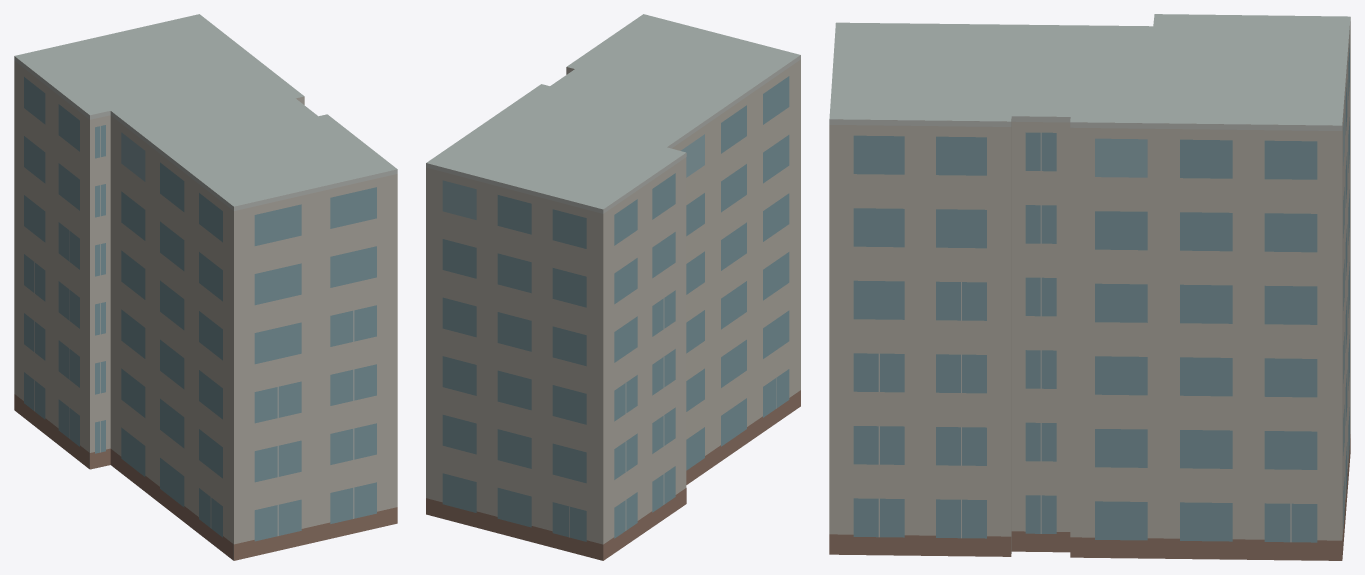
Rendered from survey-upis-32955206.glb.
The picture shows the model from 3 angles, left to right: view 1: azimuth 30°, elevation 25°; view 2: azimuth 150°, elevation 25°; view 3: azimuth 270°, elevation 25°; orthographic projection. The views are drawn at different scales.
Parts seen in each view (by area): view 1: survey-upis-32955206.tmp; view 2: survey-upis-32955206.tmp; view 3: survey-upis-32955206.tmp.
Part boxes in pixels (x1=…): survey-upis-32955206.tmp: x1=14, y1=14, x2=397, y2=560; survey-upis-32955206.tmp: x1=426, y1=14, x2=800, y2=560; survey-upis-32955206.tmp: x1=829, y1=14, x2=1350, y2=560.
Size of the model in its own units: 10.56 by 19.2 by 20.84.
